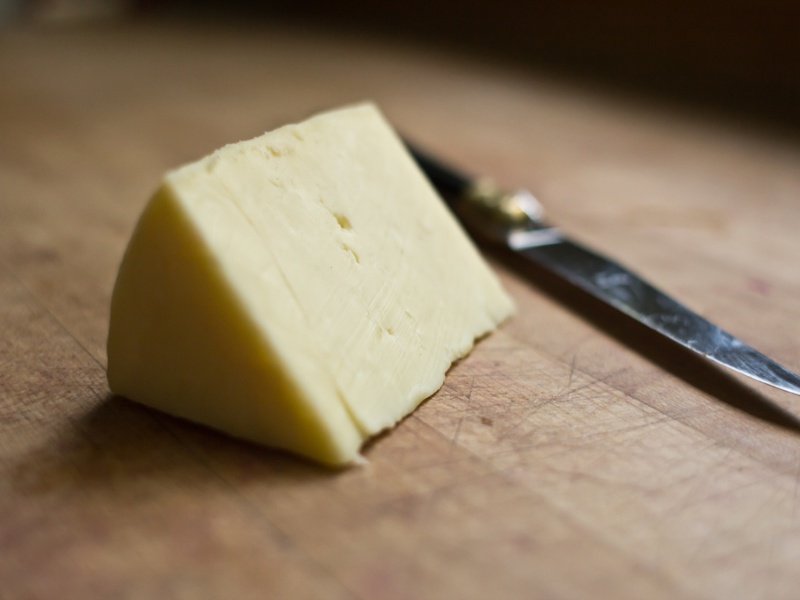knife: (504, 166, 800, 397)
